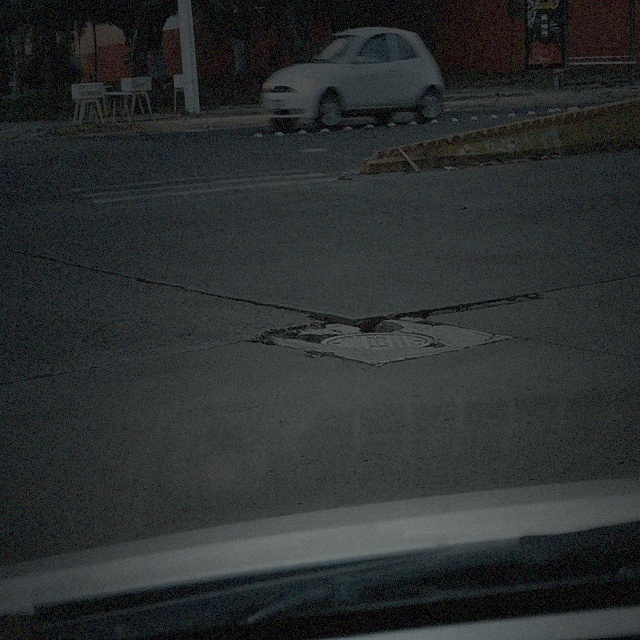pothole: (272, 324, 331, 346), (306, 304, 354, 328), (355, 308, 397, 334)
